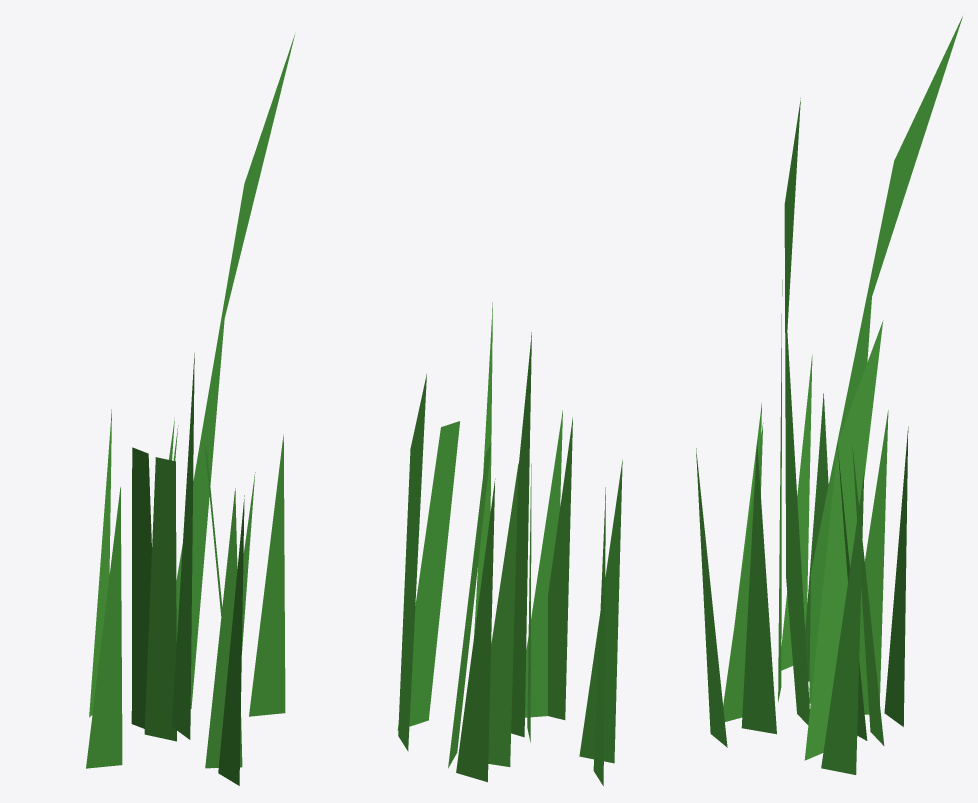
Rendered from grass-tuft.glb.
3 views of the same model, side by side, from view 1: azimuth 30°, elevation 25°; view 2: azimuth 150°, elevation 25°; view 3: azimuth 270°, elevation 25° (orthographic). The views are drawn at different scales.
Visible parts, largest first — view 1: Plane002; view 2: Plane002; view 3: Plane002.
Boxes of the visible parts, x1,y1,x2,y2 form: Plane002: (86,35,294,785); Plane002: (397,302,622,785); Plane002: (696,16,962,774).
Bounding box in the file's own units: 156 × 364 × 147.
